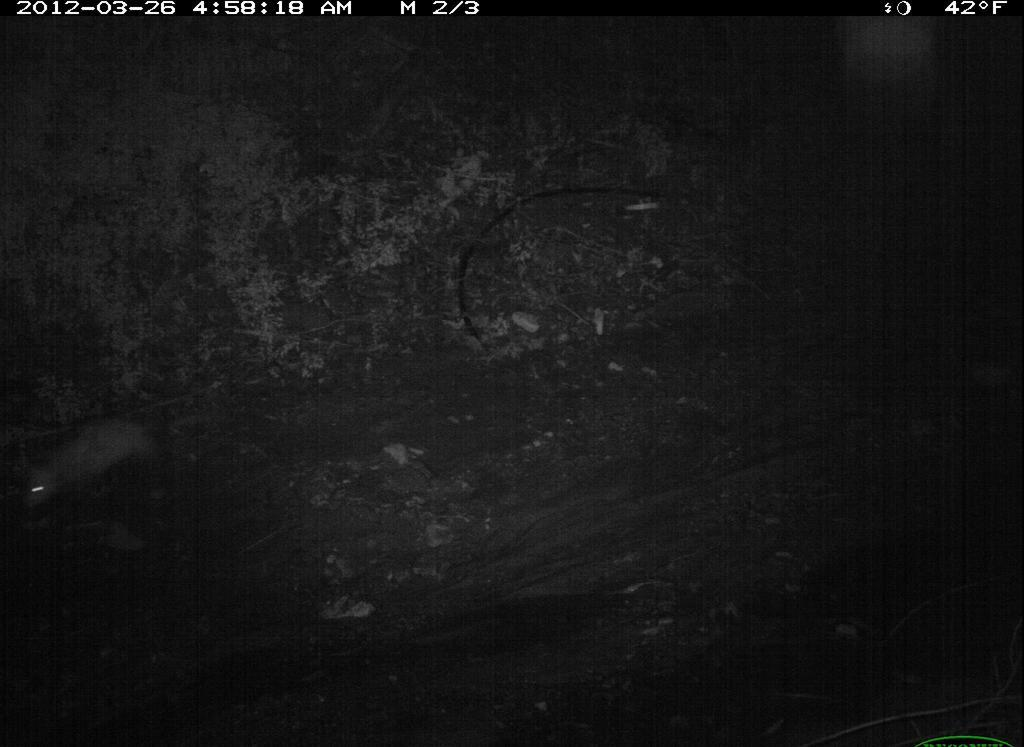opossum: (22, 397, 196, 529)
